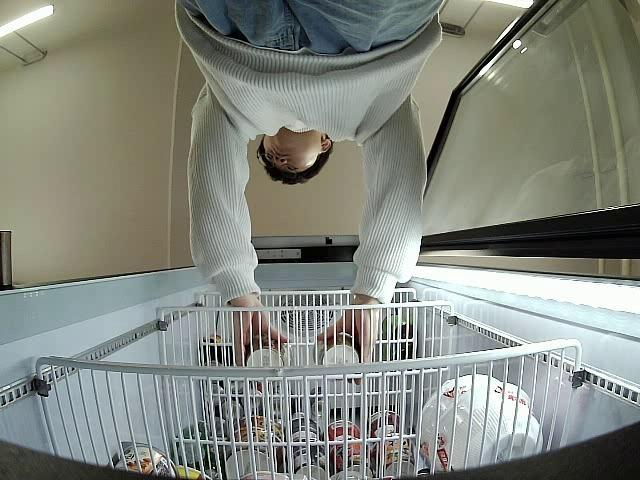04_chapagetti_S: (244, 336, 292, 368), (316, 336, 359, 365)
